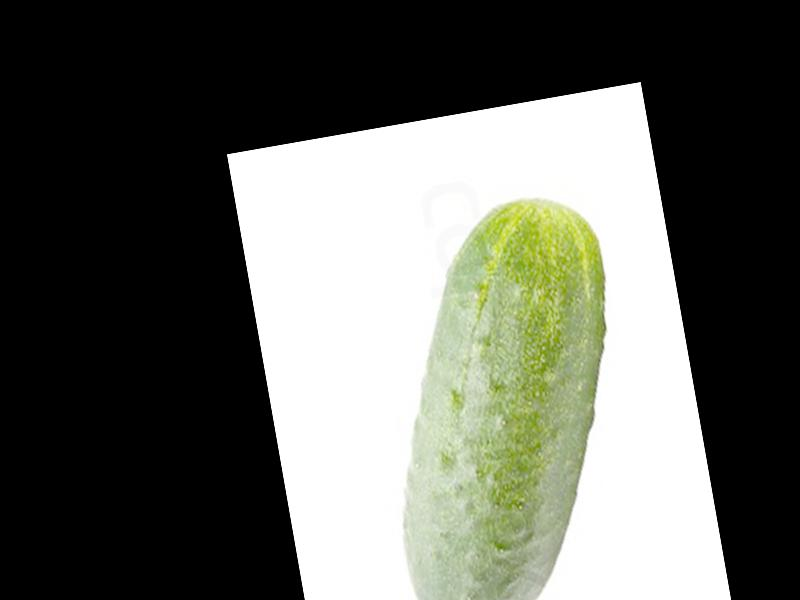Cucumber: (347, 187, 658, 600)
